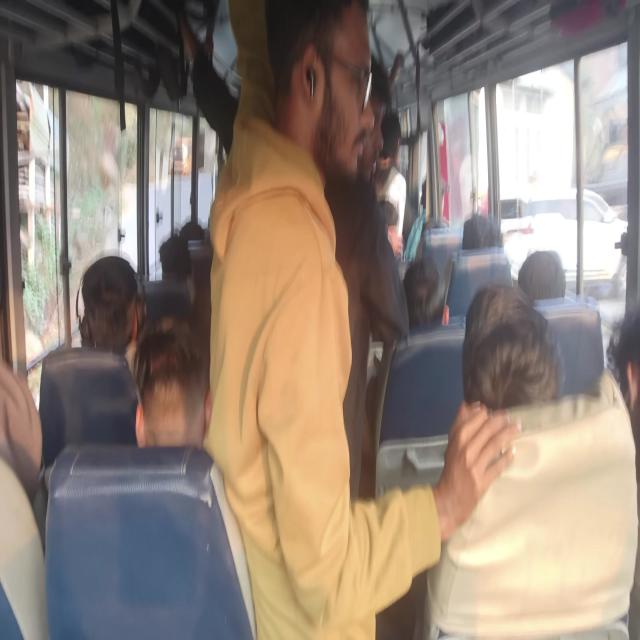person: (272, 0, 384, 275), (140, 322, 219, 488), (0, 369, 64, 549), (478, 284, 553, 423), (70, 250, 135, 358), (586, 315, 640, 440), (403, 259, 468, 335), (519, 252, 573, 333), (362, 96, 397, 193), (458, 208, 498, 272), (382, 109, 423, 170), (156, 235, 189, 297), (185, 202, 211, 254)
